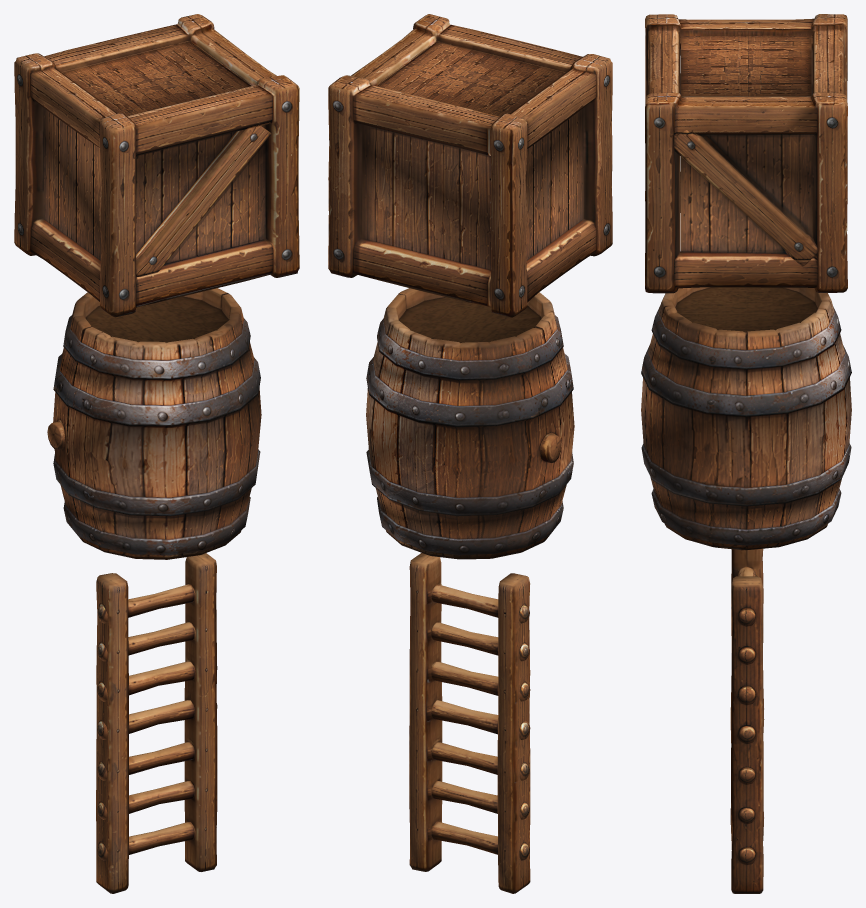
File: wooden_barrel_3d_model.fbx
3 views of the same model, side by side, from view 1: azimuth 30°, elevation 25°; view 2: azimuth 150°, elevation 25°; view 3: azimuth 270°, elevation 25° (orthographic).
Parts seen in each view (by area): view 1: tripo_node_1b3b8181; view 2: tripo_node_1b3b8181; view 3: tripo_node_1b3b8181.
Part boxes in pixels (x1,y1,x2,y2): tripo_node_1b3b8181: (14,14,299,893); tripo_node_1b3b8181: (328,14,612,893); tripo_node_1b3b8181: (641,14,851,893).
Size of the model in its own units: 0.2456 by 0.9995 by 0.2358.
